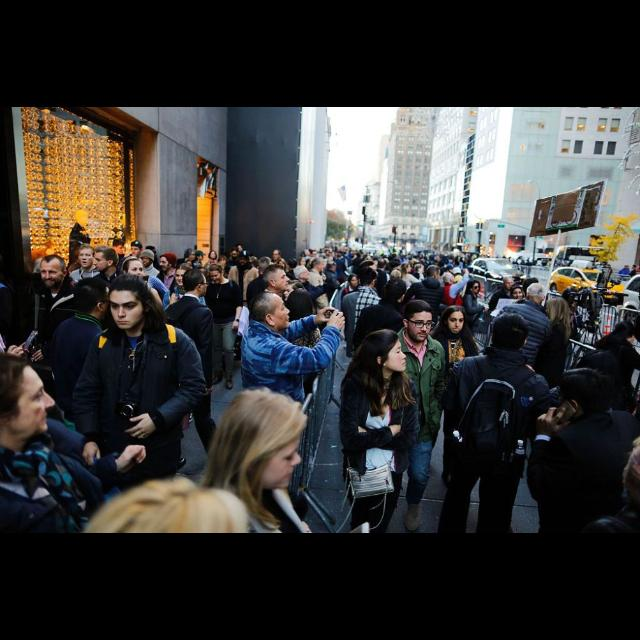head: (223, 392, 303, 492), (0, 356, 56, 444), (557, 369, 609, 425), (109, 275, 153, 331), (368, 330, 408, 374), (250, 292, 292, 332), (74, 277, 112, 317), (491, 314, 529, 354), (402, 302, 433, 344), (40, 255, 68, 289), (286, 290, 314, 320), (262, 266, 292, 294), (92, 246, 118, 274), (182, 270, 208, 298), (442, 306, 466, 336), (384, 278, 408, 304), (544, 298, 568, 322), (123, 257, 145, 283), (526, 284, 548, 304), (174, 264, 192, 288), (78, 246, 96, 268), (359, 270, 376, 290), (209, 265, 225, 285), (160, 254, 174, 274), (426, 265, 442, 281), (112, 238, 126, 256), (130, 240, 144, 258), (294, 266, 312, 280), (258, 258, 272, 274), (512, 286, 524, 302), (142, 253, 154, 267), (444, 272, 456, 286), (504, 276, 514, 292), (468, 281, 479, 295), (238, 254, 250, 266), (348, 274, 358, 288)
person: (238, 290, 348, 518), (21, 253, 91, 497), (49, 276, 114, 508), (160, 267, 228, 478), (491, 282, 555, 468), (426, 304, 484, 493), (115, 256, 161, 444), (278, 290, 324, 470), (162, 262, 208, 433), (350, 278, 408, 412), (90, 243, 130, 414), (536, 296, 576, 464), (249, 264, 291, 424), (62, 244, 105, 400), (288, 265, 334, 403), (339, 267, 385, 401), (202, 264, 244, 392), (150, 251, 184, 395), (122, 238, 154, 390), (246, 256, 284, 374), (398, 264, 446, 356), (129, 250, 165, 370), (227, 249, 261, 363), (459, 277, 488, 378), (488, 274, 520, 356), (104, 238, 128, 342), (440, 271, 470, 349), (504, 283, 528, 377), (339, 276, 365, 362)
